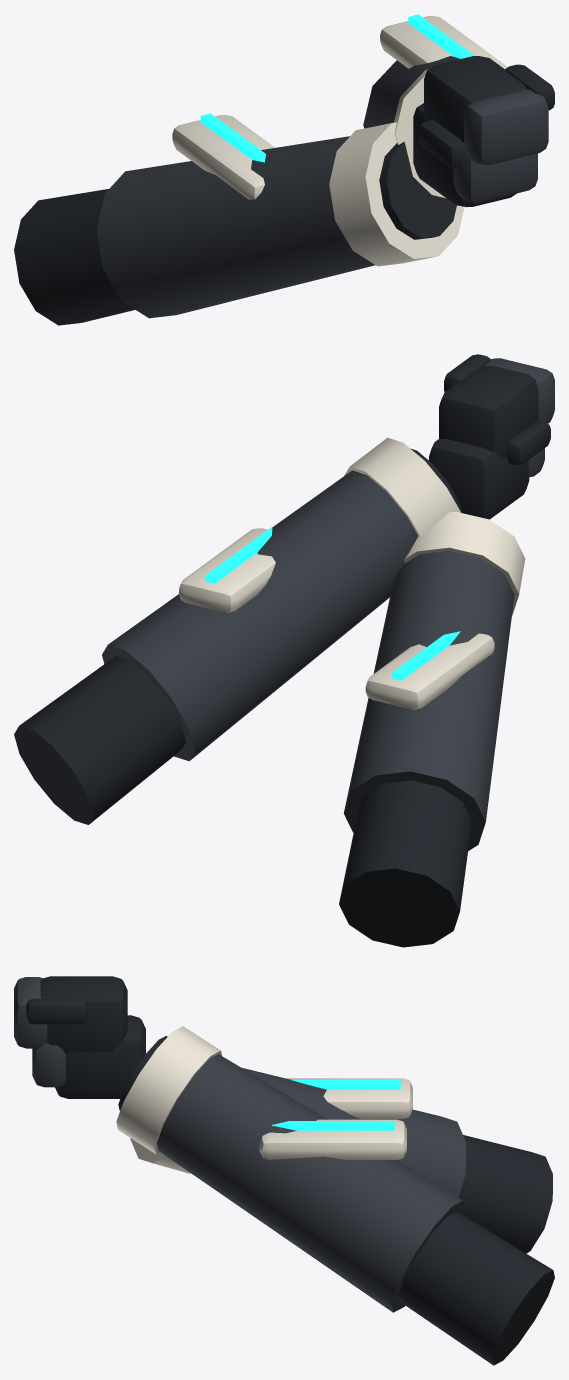
File: viewmodel_arms.glb
The picture shows the model from 3 angles, top to bottom: view 1: azimuth 30°, elevation 25°; view 2: azimuth 150°, elevation 25°; view 3: azimuth 270°, elevation 25°; orthographic projection. The views are drawn at different scales.
Parts seen in each view (by area): view 1: arm_R_mesh, arm_L_mesh; view 2: arm_L_mesh, arm_R_mesh; view 3: arm_L_mesh, arm_R_mesh.
Boxes of the visible parts, x1,y1,x2,y2 form: arm_R_mesh: (14,103,537,325); arm_L_mesh: (363,14,554,198); arm_L_mesh: (14,354,554,824); arm_R_mesh: (339,421,550,947); arm_L_mesh: (14,976,554,1365); arm_R_mesh: (32,1015,552,1253).
Size of the model in its own units: 0.3841 by 0.3017 by 0.4406.
